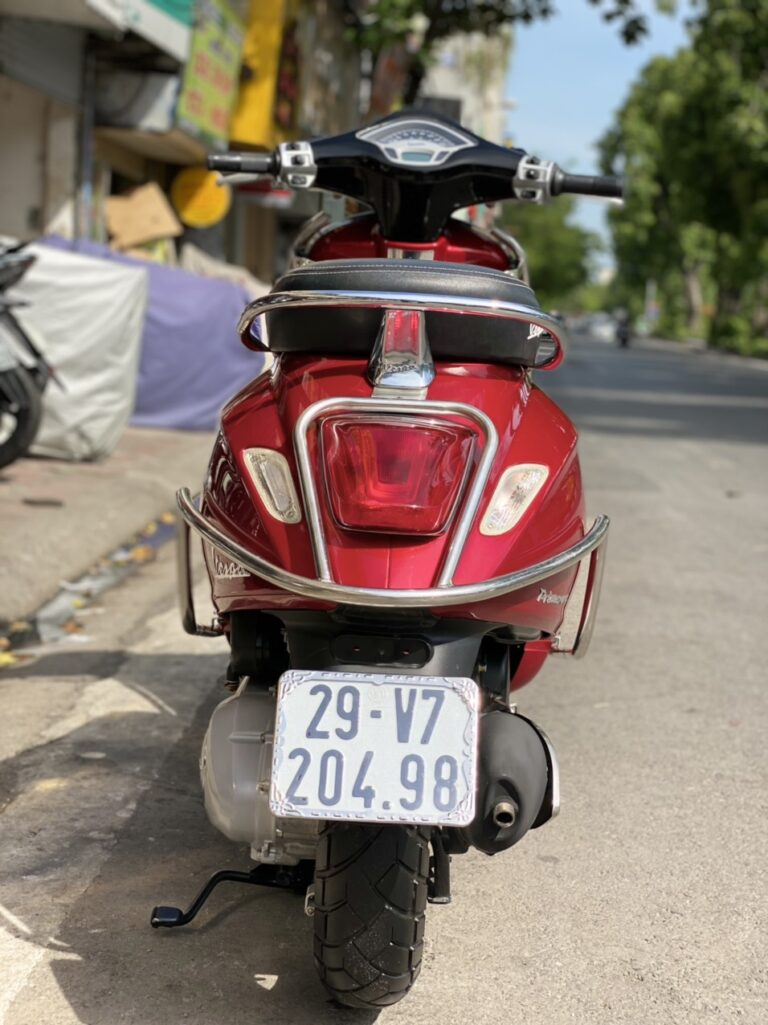bien_so: (262, 658, 487, 832)
